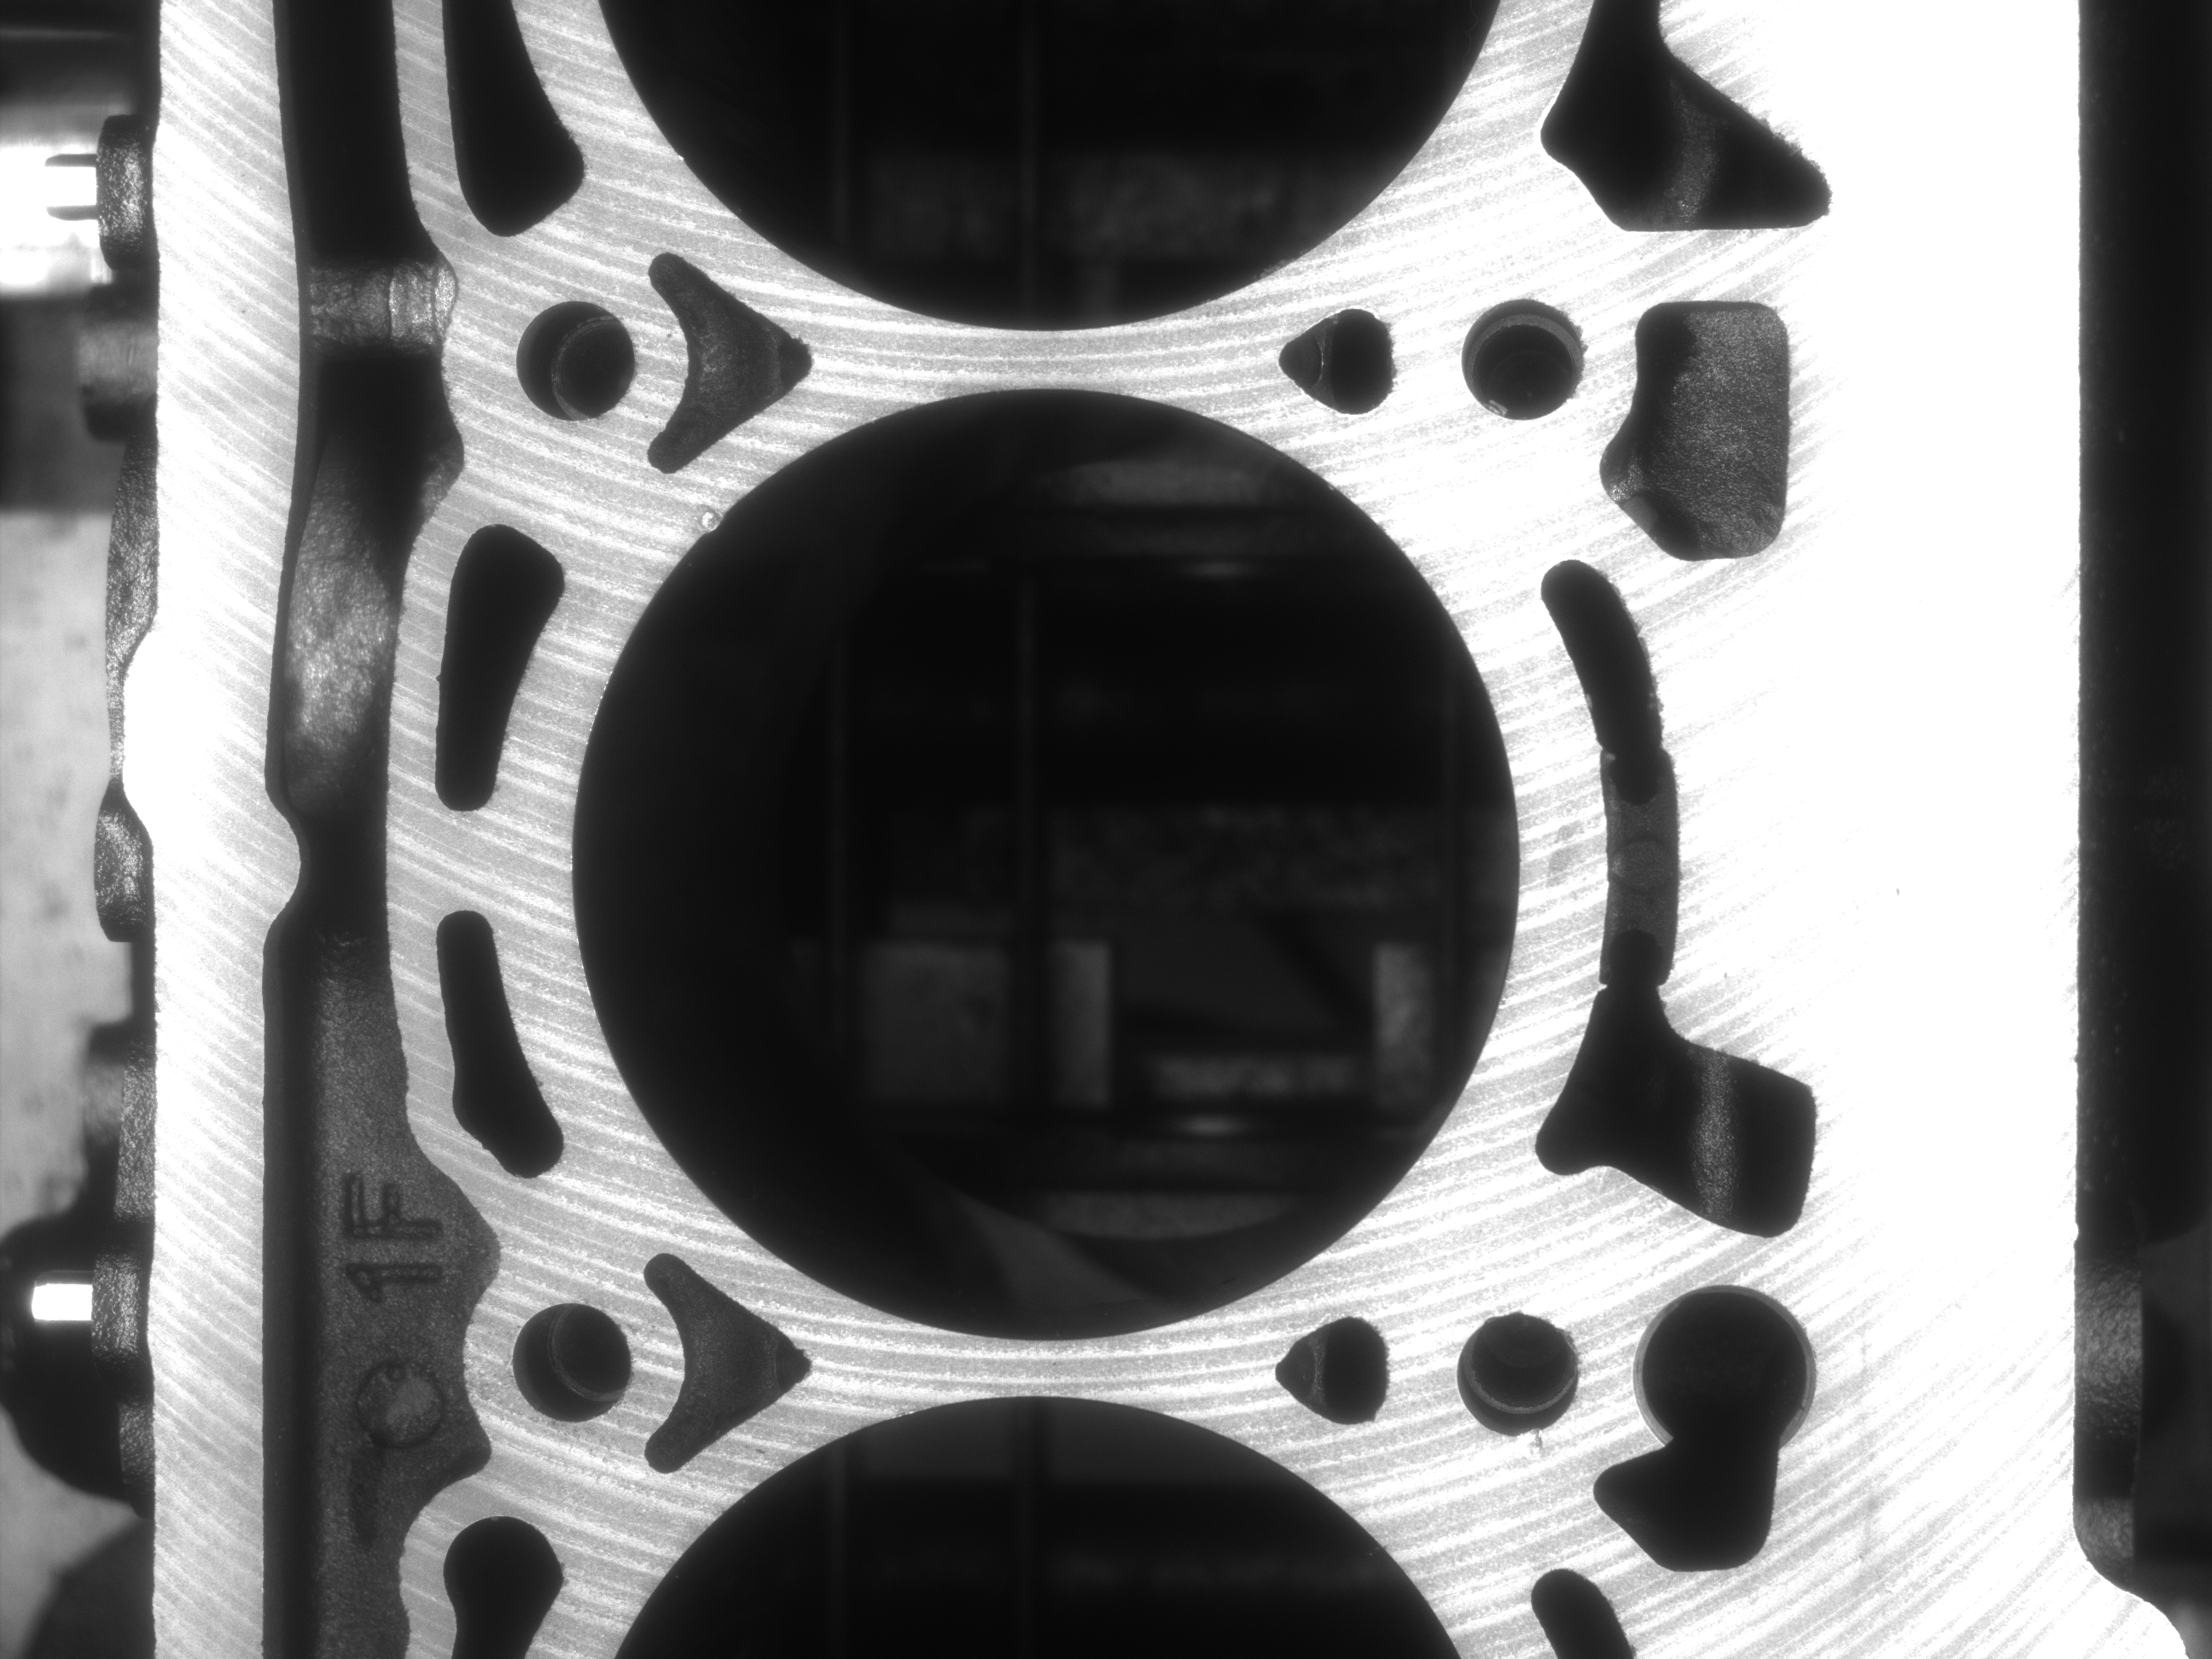shrinkage: (1514, 1431, 1547, 1460), (700, 497, 721, 533)
